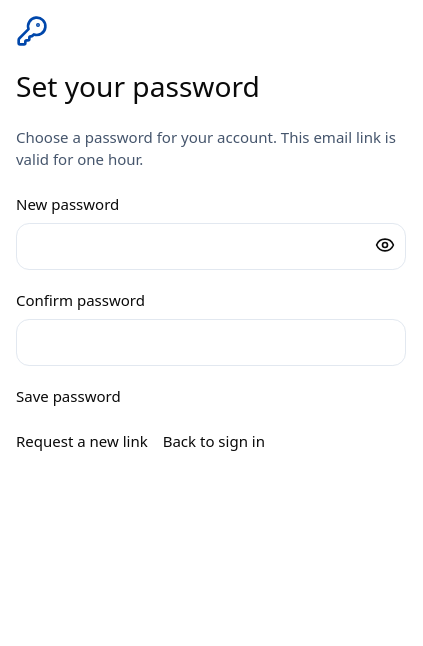
Test: shows completion only after native authentication accepts the password
In the password field labelled "New password": (211, 247) x1=16 y1=223 x2=406 y2=270, type "Example-password1!"
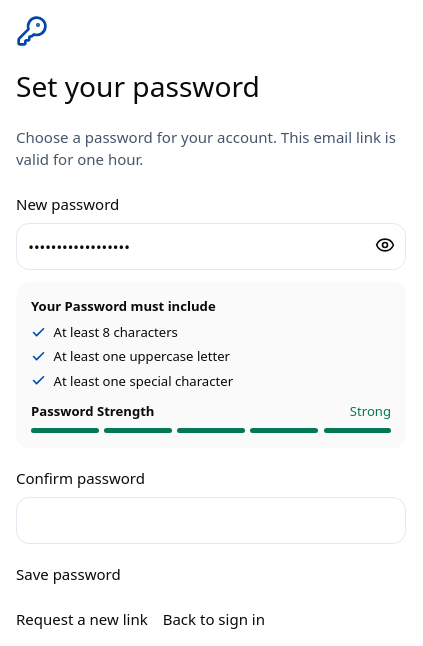
In the password field labelled "Confirm password": (211, 521) x1=16 y1=497 x2=406 y2=544, type "Example-password1!"
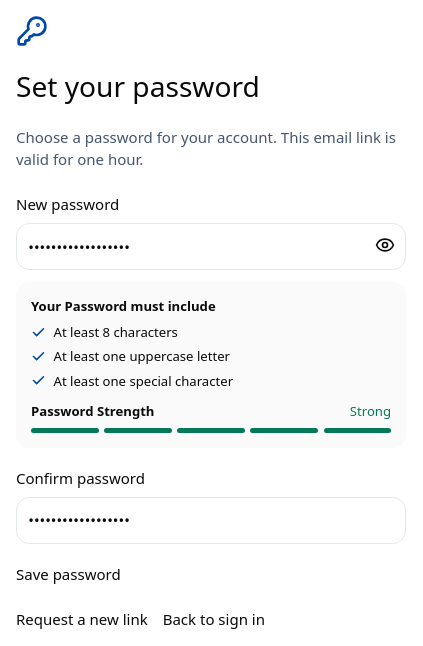
Click the button "Save password": (68, 574) x1=16 y1=563 x2=121 y2=585
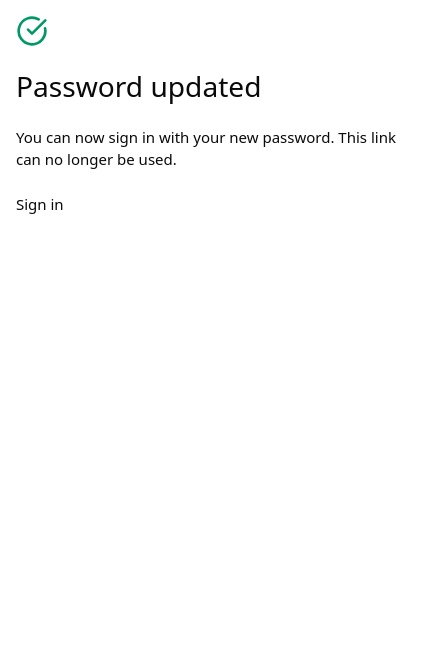
Expected: the heading "Password updated" is shown, x1=16 y1=66 x2=262 y2=104
Expected: the link "Sign in" is shown, x1=16 y1=194 x2=64 y2=214
